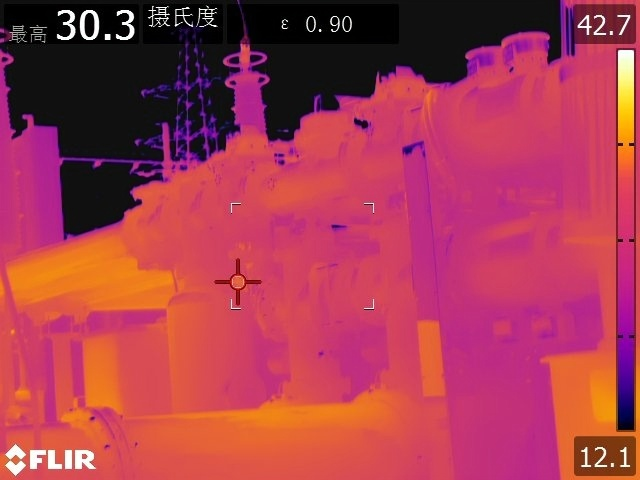tube: (217, 39, 276, 145)
